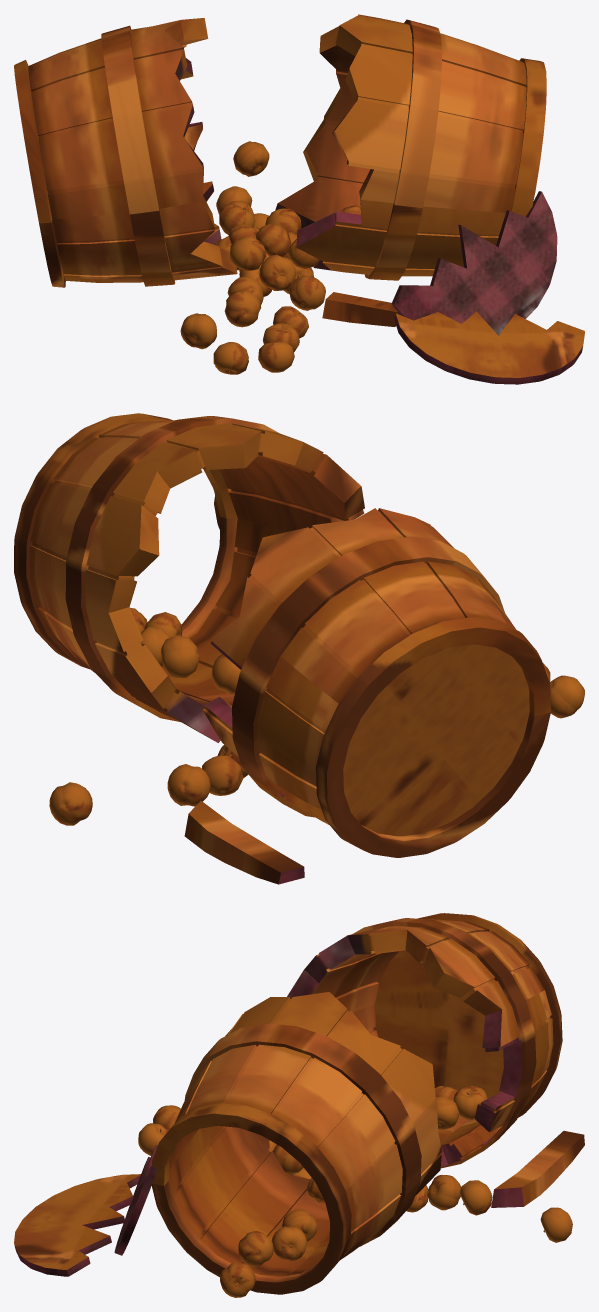
File: barrel of broken fruit_5.fbx
The picture shows the model from 3 angles, top to bottom: view 1: azimuth 30°, elevation 25°; view 2: azimuth 150°, elevation 25°; view 3: azimuth 270°, elevation 25°; orthographic projection. The views are drawn at different scales.
Visible parts, largest first — view 1: Circle.027, Circle.030, Plane.1652, Plane.1664, Plane.1671, Plane.1653, Plane.1666, Plane.1644, Plane.1660, Plane.1641, Plane.1672, Plane.1670 (+6 smaller); view 2: Circle.027, Plane.1644, Plane.1650, Plane.1673, Plane.1669, Plane.1660, Plane.1665, Plane.1667, Plane.1661; view 3: Circle.027, Circle.030, Plane.1661, Plane.1651, Plane.1667, Plane.1669, Plane.1650, Plane.1644, Plane.1663, Plane.1673, Plane.1641, Plane.1668.
Boxes of the visible parts, x1,y1,x2,y2 form: Circle.027: (14,14,546,326); Circle.030: (391,191,584,384); Plane.1652: (224,290,261,327); Plane.1664: (259,254,295,290); Plane.1671: (180,313,216,349); Plane.1653: (289,275,325,310); Plane.1666: (229,236,266,270); Plane.1644: (233,141,269,176); Plane.1660: (213,342,248,374); Plane.1641: (258,341,294,372); Plane.1672: (256,223,291,256); Plane.1670: (219,204,255,234); Circle.027: (14,413,550,884); Plane.1644: (49,782,92,825); Plane.1650: (167,764,210,806); Plane.1673: (161,635,199,678); Plane.1669: (202,755,243,795); Plane.1660: (549,675,584,718); Plane.1665: (211,654,240,694); Plane.1667: (140,627,170,666); Plane.1661: (144,612,182,637); Circle.027: (151,913,584,1294); Circle.030: (14,1145,157,1276); Plane.1661: (238,1231,273,1266); Plane.1651: (220,1262,255,1297); Plane.1667: (271,1226,306,1261); Plane.1669: (428,1175,461,1210); Plane.1650: (460,1180,492,1215); Plane.1644: (540,1207,572,1242); Plane.1663: (453,1085,487,1119); Plane.1673: (282,1209,317,1241); Plane.1641: (138,1123,168,1155); Plane.1668: (434,1096,459,1129).
Bounding box in the file's own units: 73.73 × 37.01 × 79.57.
